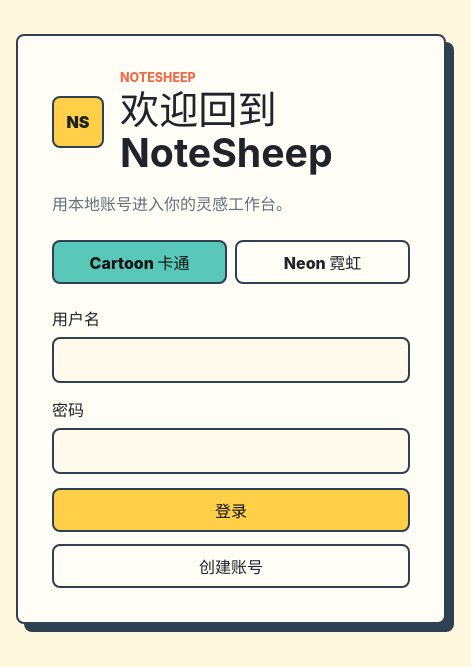
it: Auth screen › blocks submit when password is shorter than 6 characters
This screenshot has width=471, height=667.
Type "shorty" into the field labelled "用户名" at (231, 360), box [52,337,410,383]
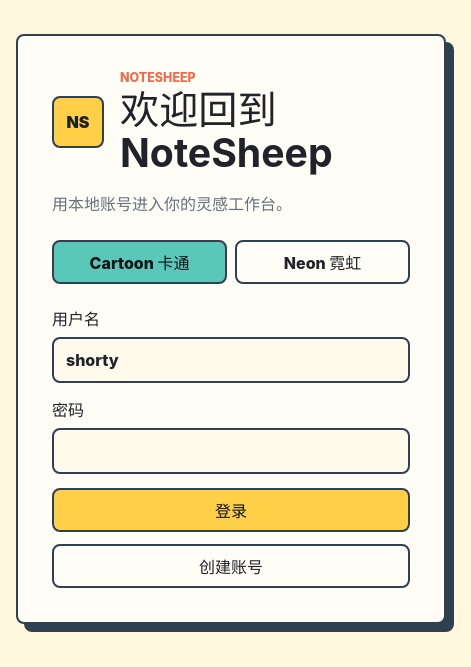
Type "12345" into the password field labelled "密码" at (231, 451), box [52,428,410,474]
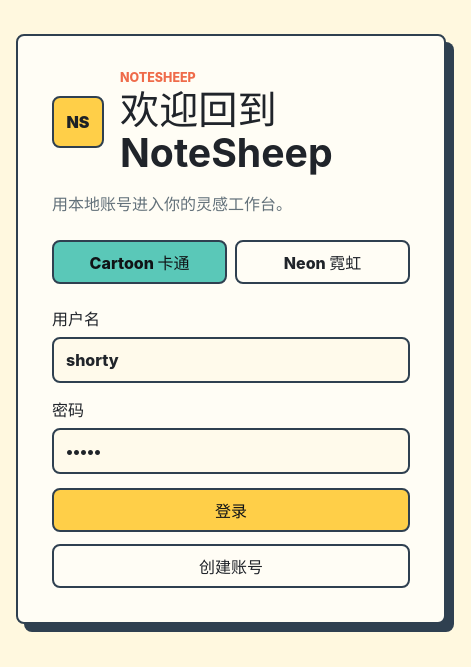
Click the button "登录" at (231, 510), box [52,488,410,532]
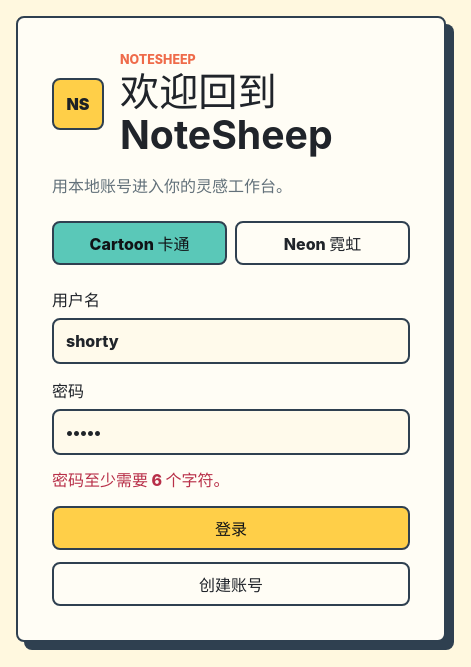
Check: the text "密码至少需要 6 个字符。" is shown, box [52,470,230,490]
